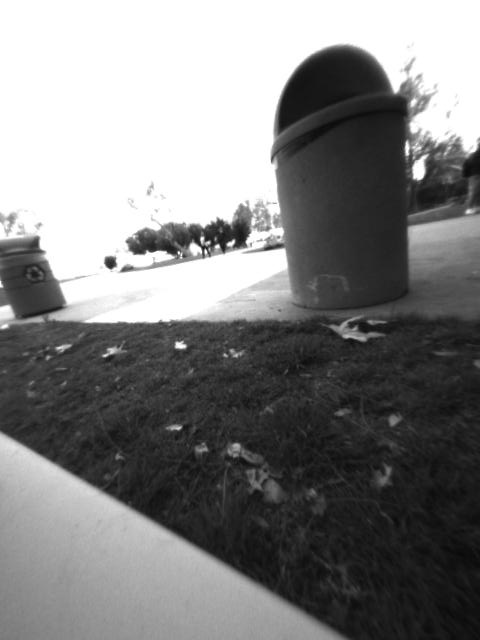trashcan: (270, 41, 415, 314)
